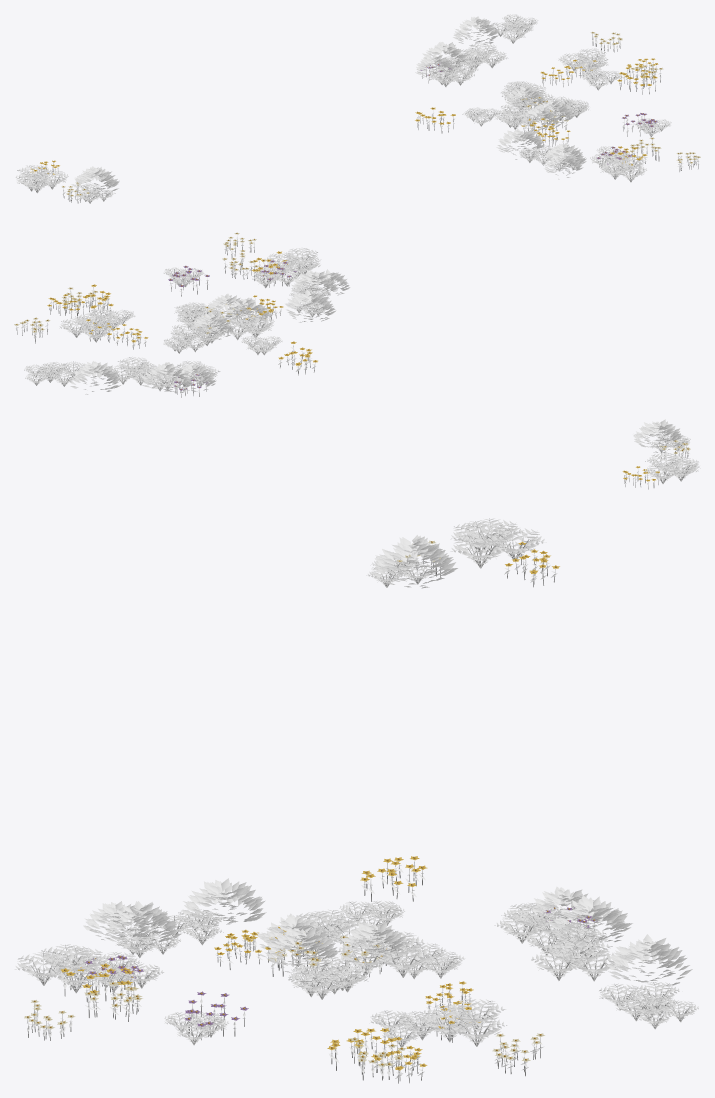
Rendered from SM_NW_Nature_3_1_Flora.fbx.
The picture shows the model from 3 angles, top to bottom: view 1: azimuth 30°, elevation 25°; view 2: azimuth 150°, elevation 25°; view 3: azimuth 270°, elevation 25°; orthographic projection. The views are drawn at different scales.
Parts seen in each view (by area): view 1: SM_NW_Nature_3_1_Flora; view 2: SM_NW_Nature_3_1_Flora; view 3: SM_NW_Nature_3_1_Flora.
Boxes of the visible parts, bbox=[...] form: SM_NW_Nature_3_1_Flora: bbox=[15, 14, 700, 203]; SM_NW_Nature_3_1_Flora: bbox=[14, 232, 699, 489]; SM_NW_Nature_3_1_Flora: bbox=[15, 518, 698, 1083].
Size of the model in its own units: 2767 by 1508 by 178.
